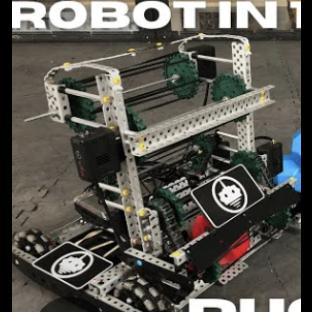Robot: (11, 33, 299, 311)
